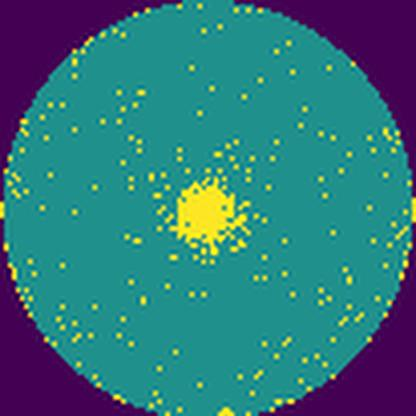Center: (177, 178, 238, 257)
